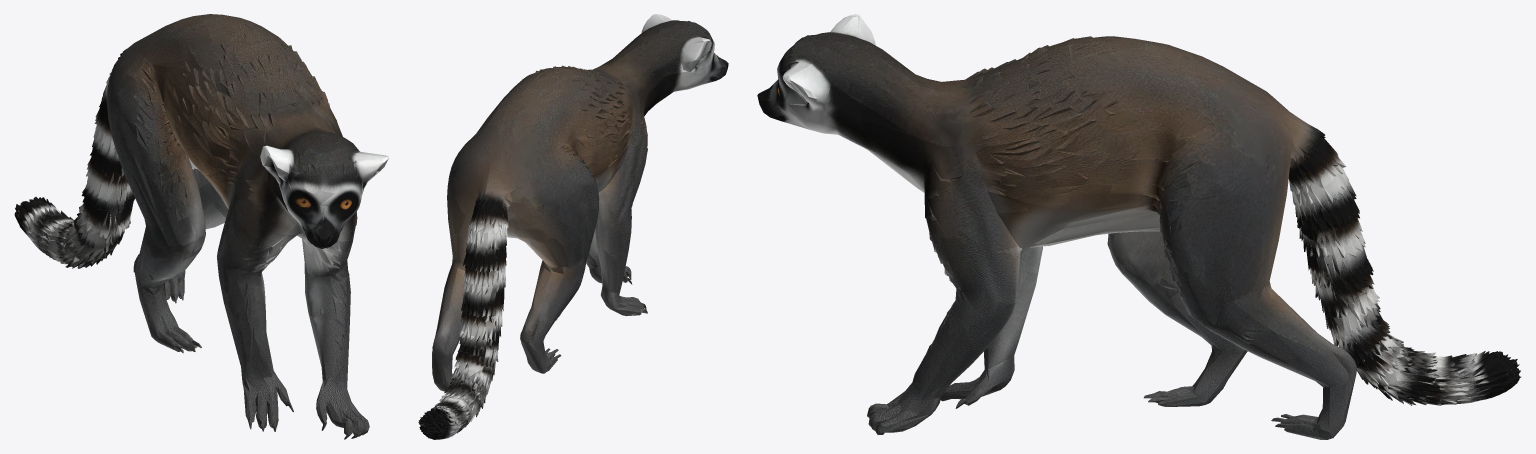
Rendered from animal_ring_tailed_lemur.glb.
The picture shows the model from 3 angles, left to right: view 1: azimuth 30°, elevation 25°; view 2: azimuth 150°, elevation 25°; view 3: azimuth 270°, elevation 25°; orthographic projection. The views are drawn at different scales.
Bounding box in the file's own units: 0.5077 × 1.04 × 1.9.
Materials: 1 (1 with a texture image).
